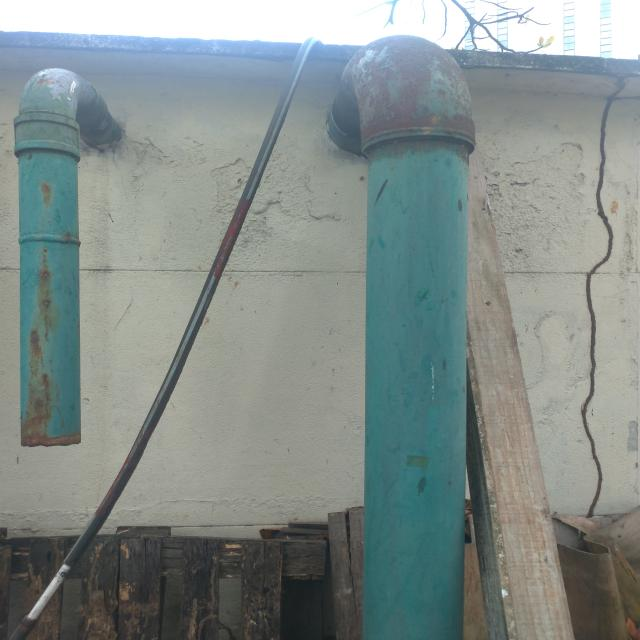gas: (325, 37, 471, 640), (13, 67, 122, 445)
